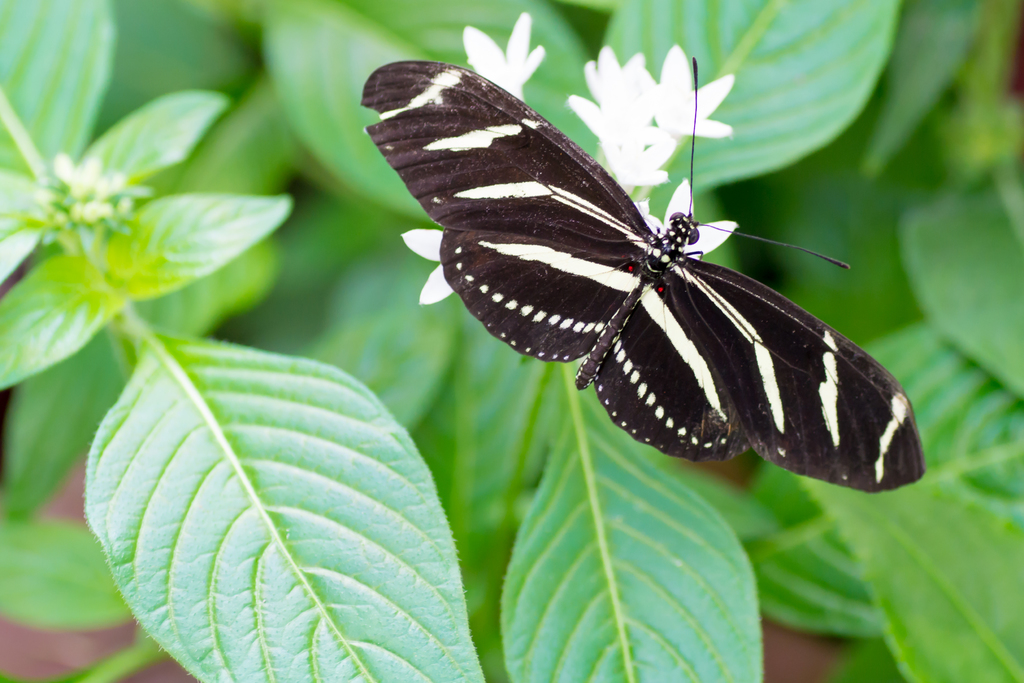Butterfly: (343, 51, 927, 502)
